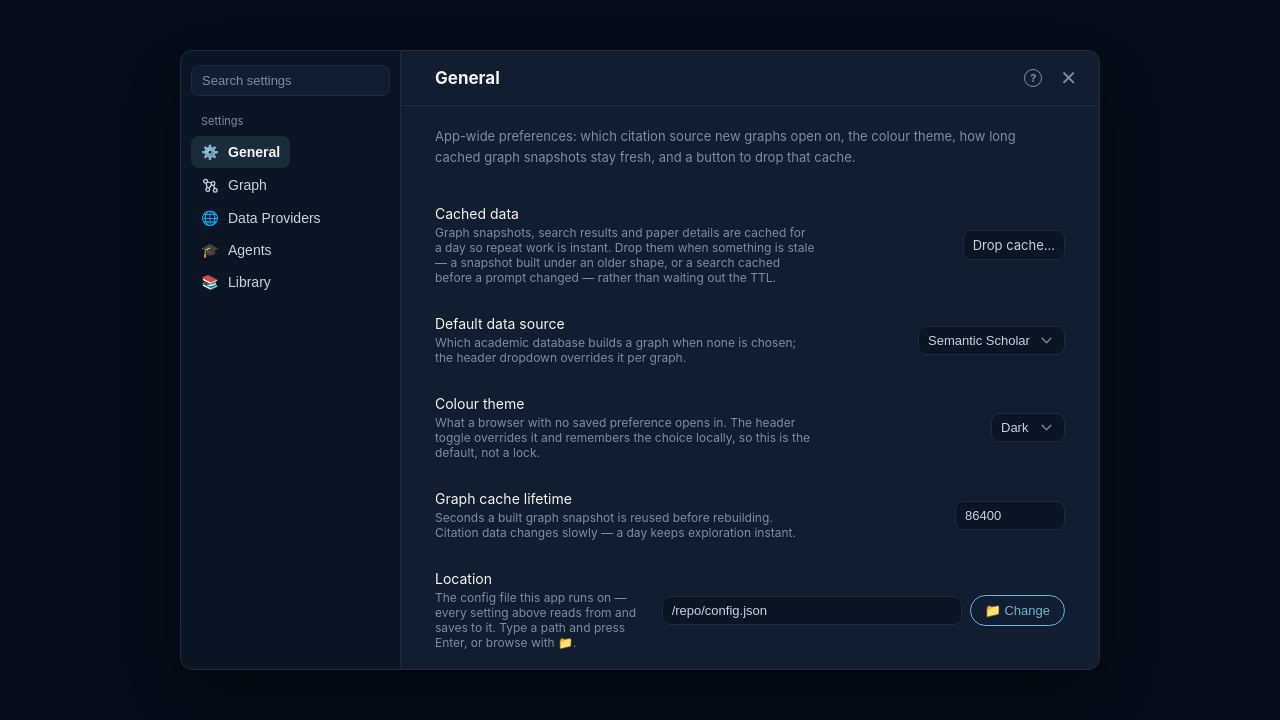
it: SettingsModal › the ? runs the settings tour, which walks the nav for its stops
Expected: the text "Default data source" is shown, [435,315,565,332]
What coordinates should you click on to do the following:
click the button named "Tour the settings"
I would click on:
 (1033, 78)
Its box is [1024,69,1042,87].
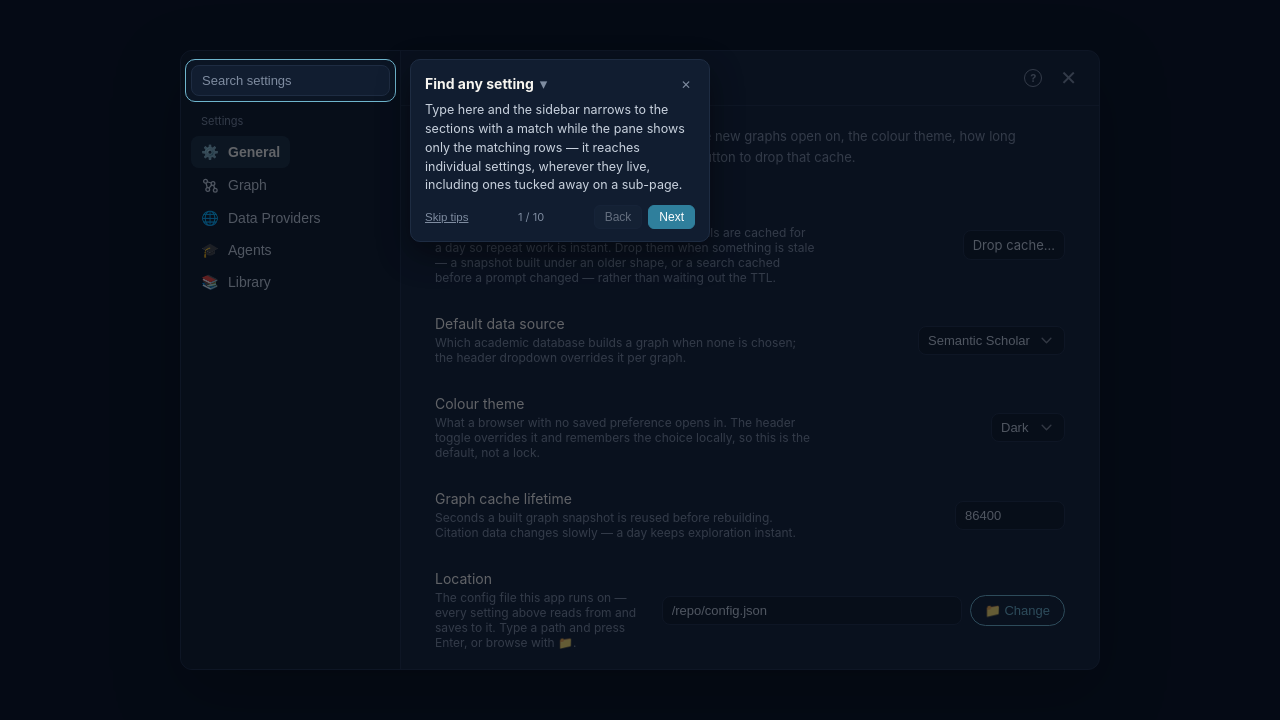
Expected: the dialog named "Guided tour" shows "Find any setting", [425,75,534,92]
What coordinates should you click on to do the following:
click the button "Next"
I would click on:
 (672, 217)
Its box is [648,205,695,229].
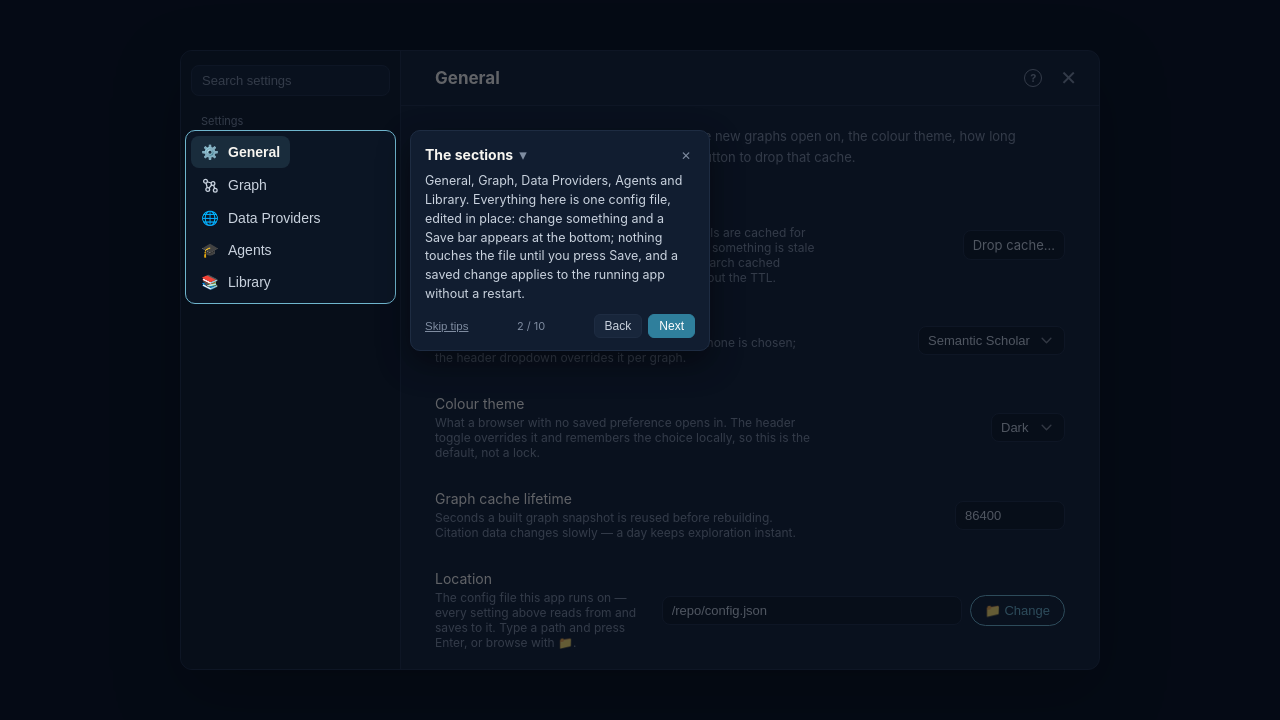
What coordinates should you click on to do the following:
click the button "Next"
I would click on:
 (672, 326)
Its box is [648,314,695,338].
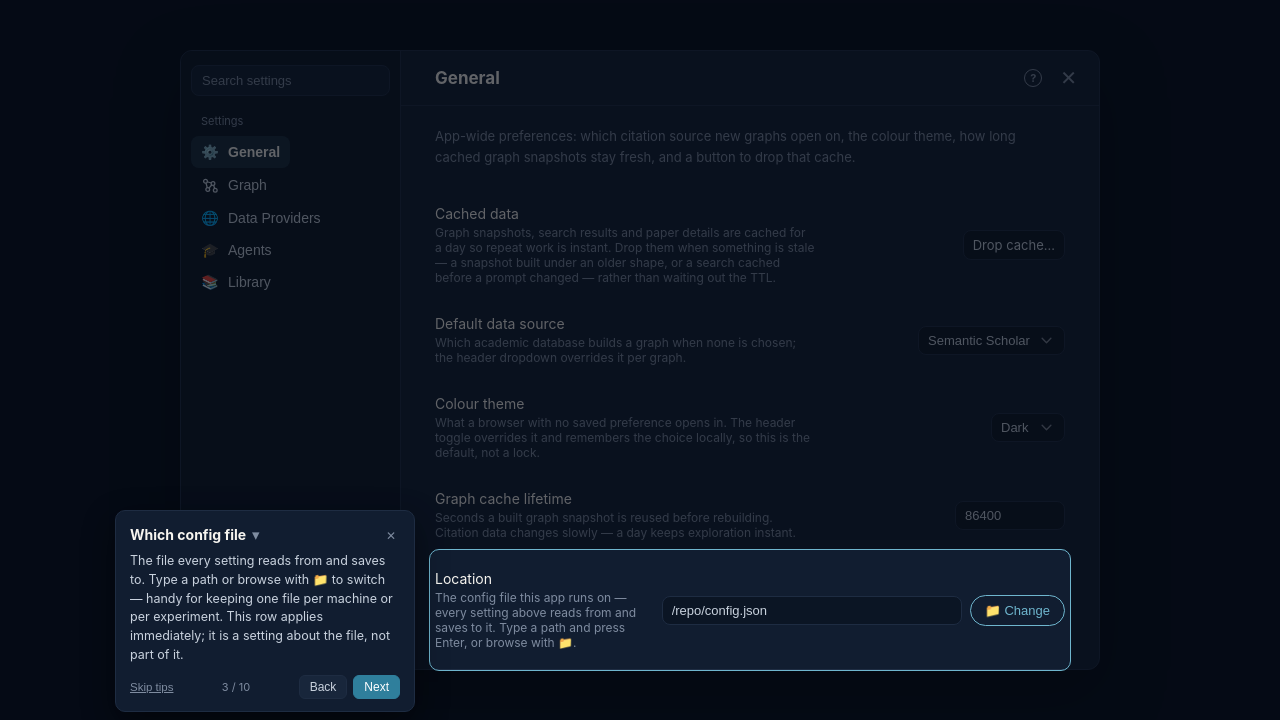
What coordinates should you click on to do the following:
click the button "Next"
I would click on:
 (377, 686)
Its box is [353,674,400,698].
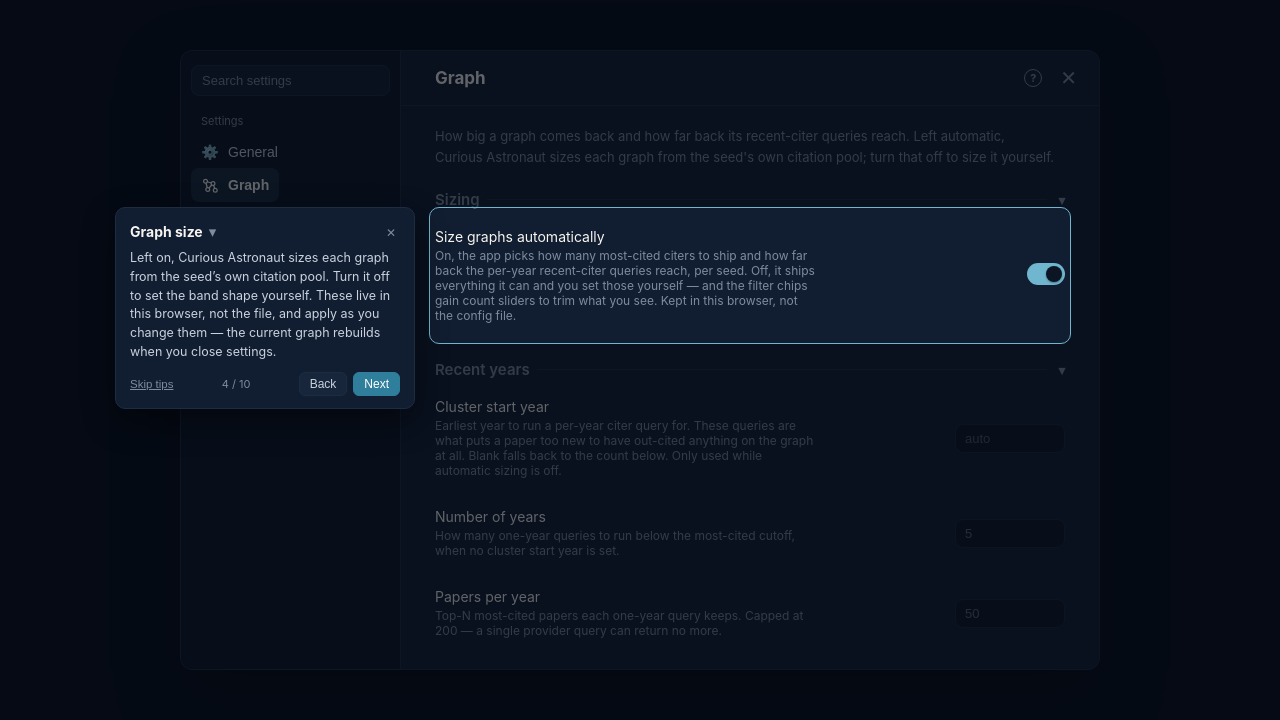
Expected: the dialog named "Guided tour" shows "Graph size", [130,223,203,240]
Expected: the checkbox named "Size graphs automatically" is shown, [1027,262,1065,284]
